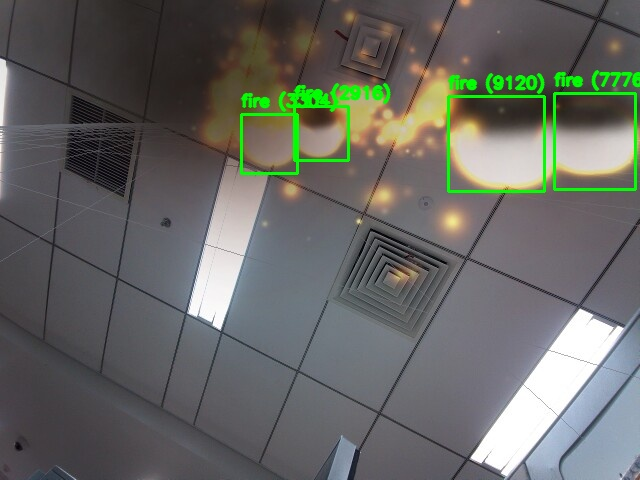fire: (448, 96, 544, 191), (554, 93, 635, 189), (241, 114, 297, 173), (294, 106, 348, 160)
